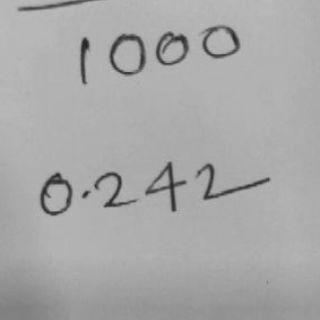.: (79, 187, 92, 201)
0: (106, 32, 147, 78), (199, 21, 244, 60), (38, 173, 74, 217), (154, 30, 190, 68)
1: (74, 35, 95, 89)
2: (195, 159, 272, 200), (93, 169, 138, 210)
4: (144, 162, 188, 214)
